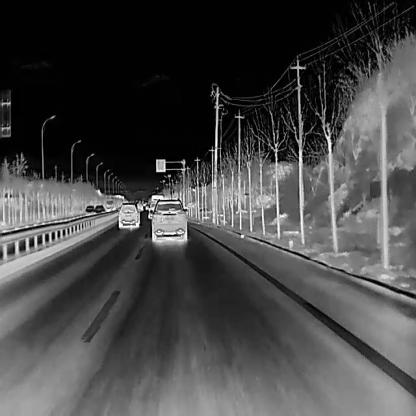bus: (150, 193, 165, 202)
car: (149, 196, 188, 244), (117, 202, 139, 229), (93, 203, 105, 218), (147, 202, 156, 218), (83, 203, 94, 216), (136, 202, 144, 212), (144, 203, 149, 211)
truck: (105, 199, 113, 211)
